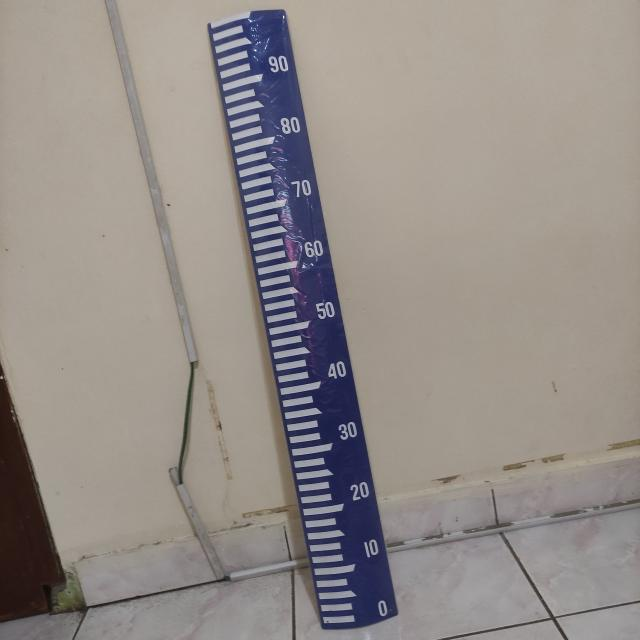ruler: (198, 0, 408, 640)
value: (300, 232, 329, 267), (334, 415, 366, 446), (344, 476, 377, 506), (276, 111, 309, 140), (321, 356, 354, 384), (357, 531, 385, 561), (283, 176, 316, 201), (311, 295, 339, 323), (370, 594, 396, 623)
